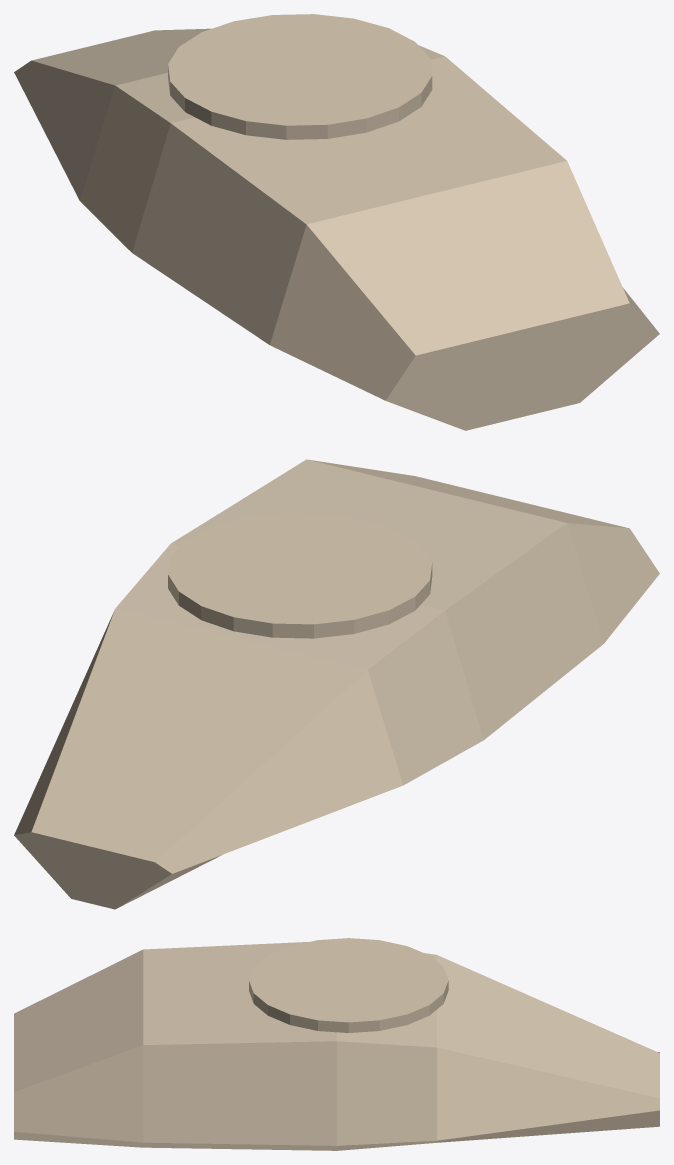
The model's file is hull_02_light_tank.glb.
The picture shows the model from 3 angles, top to bottom: view 1: azimuth 30°, elevation 25°; view 2: azimuth 150°, elevation 25°; view 3: azimuth 270°, elevation 25°; orthographic projection. The views are drawn at different scales.
Visible parts, largest first — view 1: Hull_02_LightTank; view 2: Hull_02_LightTank; view 3: Hull_02_LightTank.
Part boxes in pixels (box(x1,y1,x2,y2)): Hull_02_LightTank: box(14, 14, 659, 430); Hull_02_LightTank: box(14, 459, 659, 909); Hull_02_LightTank: box(14, 938, 659, 1150).
Size of the model in its own units: 2.6 by 1.3 by 5.5.
